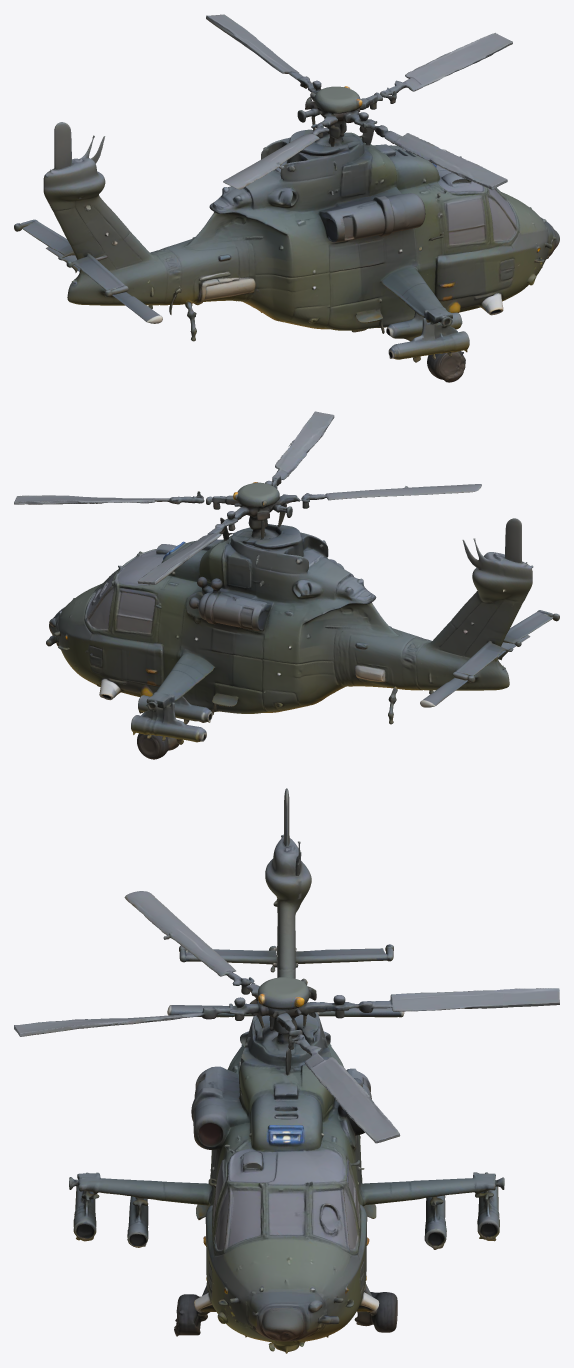
File: model_6d232e60-fbc2-44f4-8629-aee5b513c09d_draco.glb
The picture shows the model from 3 angles, top to bottom: view 1: azimuth 30°, elevation 25°; view 2: azimuth 150°, elevation 25°; view 3: azimuth 270°, elevation 25°; orthographic projection. The views are drawn at different scales.
Visible parts, largest first — view 1: tripo_node_6d232e60-fbc2-44f4-8629-aee5b513c09d; view 2: tripo_node_6d232e60-fbc2-44f4-8629-aee5b513c09d; view 3: tripo_node_6d232e60-fbc2-44f4-8629-aee5b513c09d.
Part boxes in pixels (x1,y1,x2,y2): tripo_node_6d232e60-fbc2-44f4-8629-aee5b513c09d: (14, 14, 559, 382); tripo_node_6d232e60-fbc2-44f4-8629-aee5b513c09d: (14, 411, 559, 759); tripo_node_6d232e60-fbc2-44f4-8629-aee5b513c09d: (14, 788, 559, 1353).
Bounding box in the file's own units: 0.9975 × 0.5746 × 0.8042.
1 material, 1 textured.
